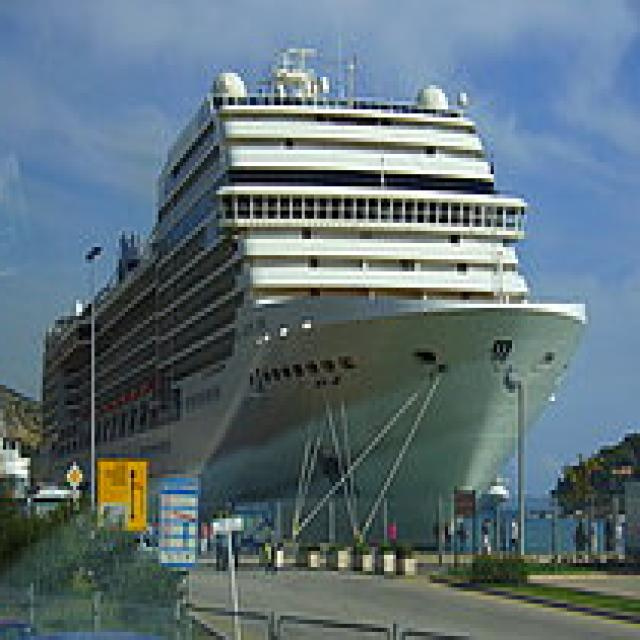Cruise: (40, 28, 594, 551)
